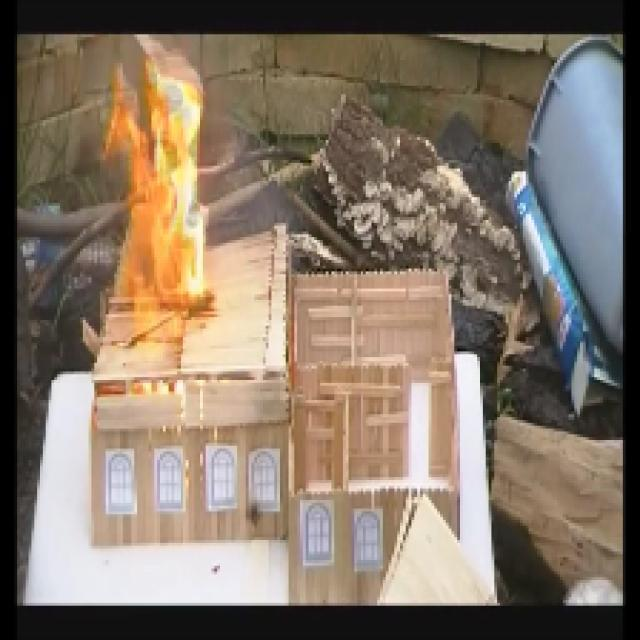Fire: (102, 67, 208, 326)
